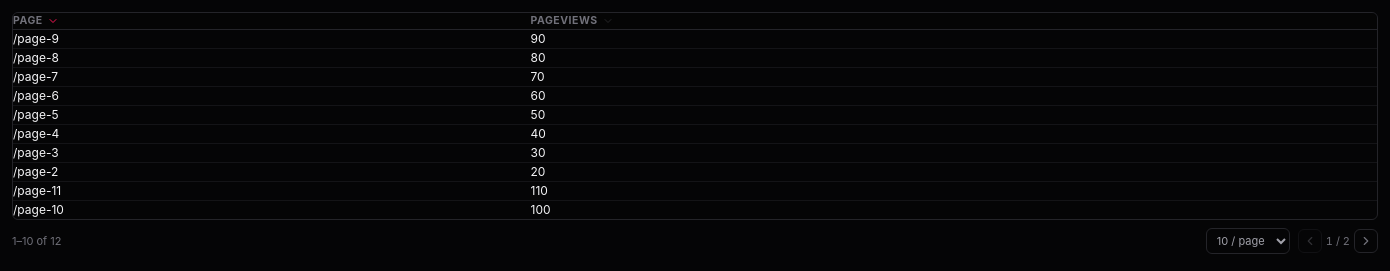
Test: DataTable › paginates and reports the visible slice
Expected: the text "1–10 of 12" is shown, [12,232,62,249]
Click the button named "next page": coordinates (1366, 241) [1354,229,1378,253]
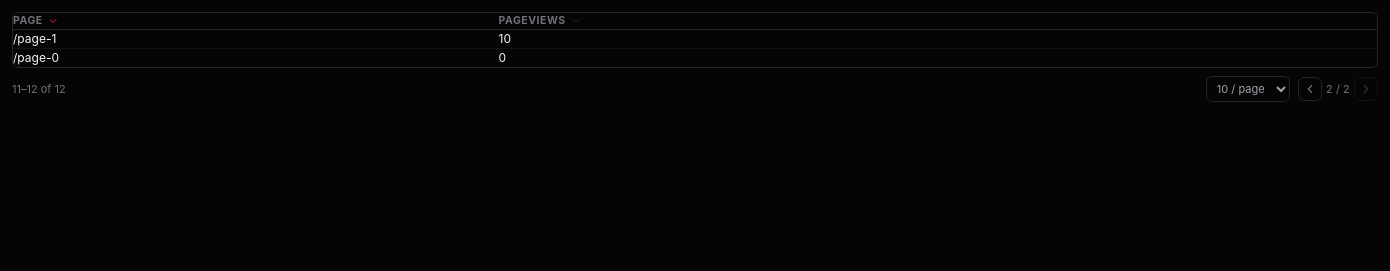
Now the text "11–12 of 12" is shown, box [12,80,66,97]
Now the button named "next page" is disabled, box [1354,77,1378,101]
